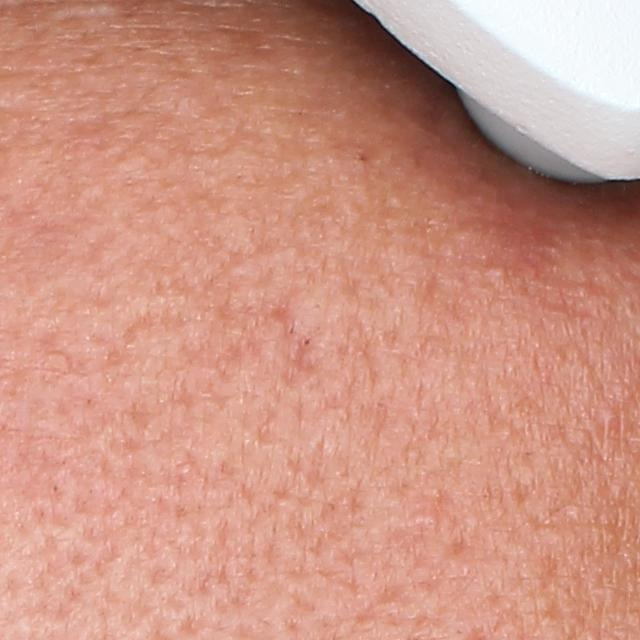comedo: (594, 406, 619, 429), (414, 509, 439, 527)
